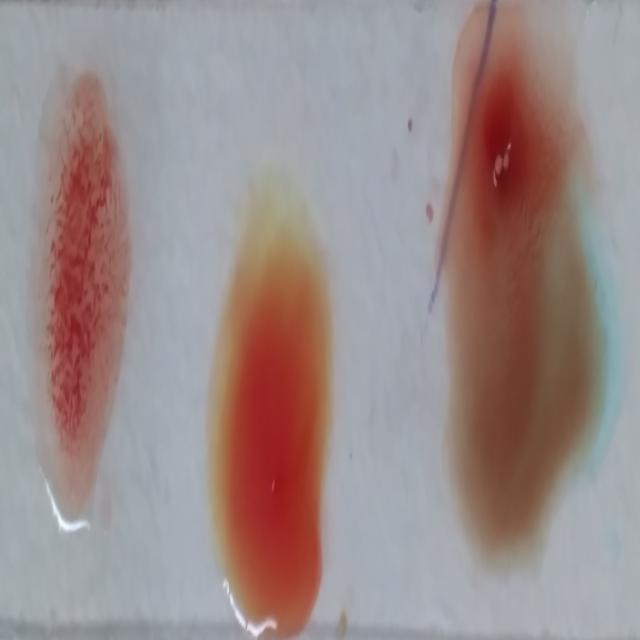D: (32, 70, 130, 514)
